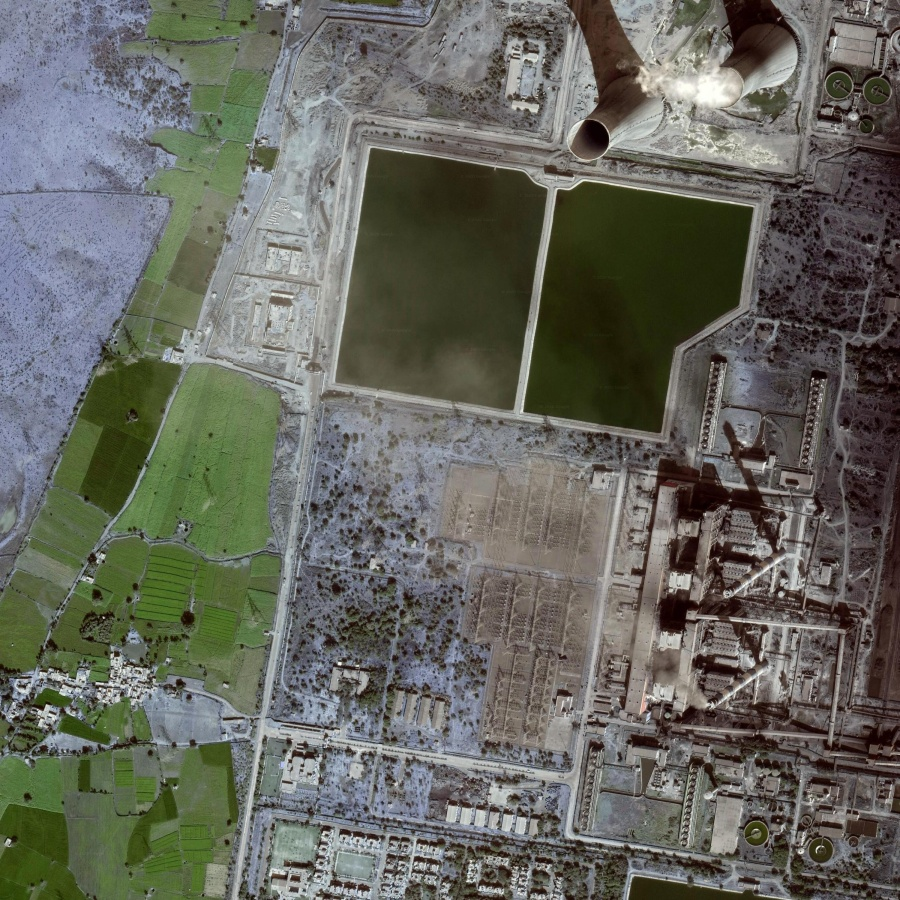PowerPlant: (322, 143, 760, 451)
